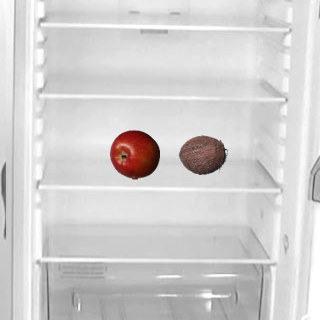Apple Braeburn: (109, 129, 159, 179)
Cocos: (177, 129, 227, 179)
